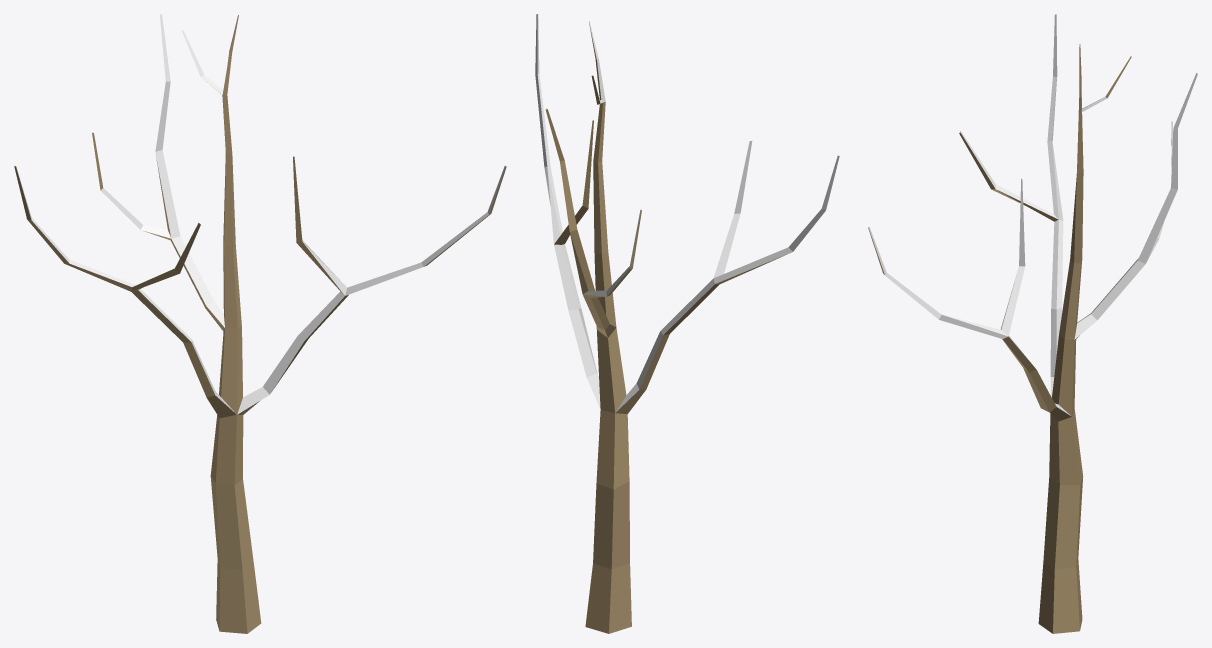
File: Acacia_Tree_NoLeaves_l_Snow_04_LOD.fbx
3 views of the same model, side by side, from view 1: azimuth 30°, elevation 25°; view 2: azimuth 150°, elevation 25°; view 3: azimuth 270°, elevation 25° (orthographic). The views are drawn at different scales.
Visible parts, largest first — view 1: Acacia_Tree_NoLeaves_l_Snow_04_LOD0; view 2: Acacia_Tree_NoLeaves_l_Snow_04_LOD0; view 3: Acacia_Tree_NoLeaves_l_Snow_04_LOD0.
Boxes of the visible parts, bbox=[...] form: Acacia_Tree_NoLeaves_l_Snow_04_LOD0: bbox=[14, 14, 506, 633]; Acacia_Tree_NoLeaves_l_Snow_04_LOD0: bbox=[535, 14, 839, 633]; Acacia_Tree_NoLeaves_l_Snow_04_LOD0: bbox=[868, 14, 1197, 633].
Size of what is drawn, in the model's own units: 821 by 1189 by 606.
